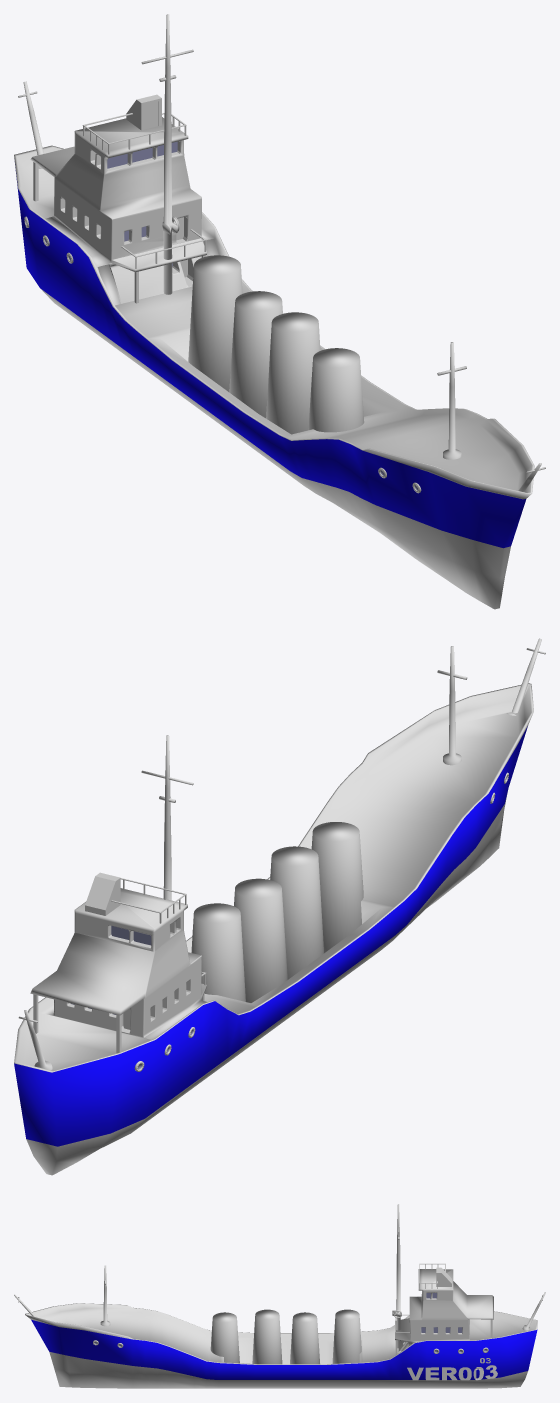
Rendered from D2_Ship3.glb.
3 views of the same model, one above another, from view 1: azimuth 30°, elevation 25°; view 2: azimuth 150°, elevation 25°; view 3: azimuth 270°, elevation 25° (orthographic). The views are drawn at different scales.
Visible parts, largest first — view 1: Object_6, Object_2, Cylinder.001, Cylinder, Object_4; view 2: Object_6, Object_2, Cylinder, Cylinder.001; view 3: Object_6, Object_2, Cylinder.001, Cylinder, Text.
Boxes of the visible parts, x1,y1,x2,y2 form: Object_6: (14, 14, 545, 609); Object_2: (15, 164, 526, 548); Cylinder.001: (188, 255, 282, 418); Cylinder: (266, 312, 364, 434); Object_4: (26, 141, 418, 490); Object_6: (14, 638, 545, 1175); Object_2: (14, 726, 527, 1146); Cylinder: (270, 822, 363, 979); Cylinder.001: (191, 878, 287, 1002); Object_6: (14, 1204, 545, 1388); Object_2: (31, 1319, 537, 1379); Cylinder.001: (290, 1309, 361, 1364); Cylinder: (210, 1309, 282, 1364); Text: (407, 1365, 497, 1380).
Bounding box in the file's own units: 6.14 × 16.34 × 43.39.
